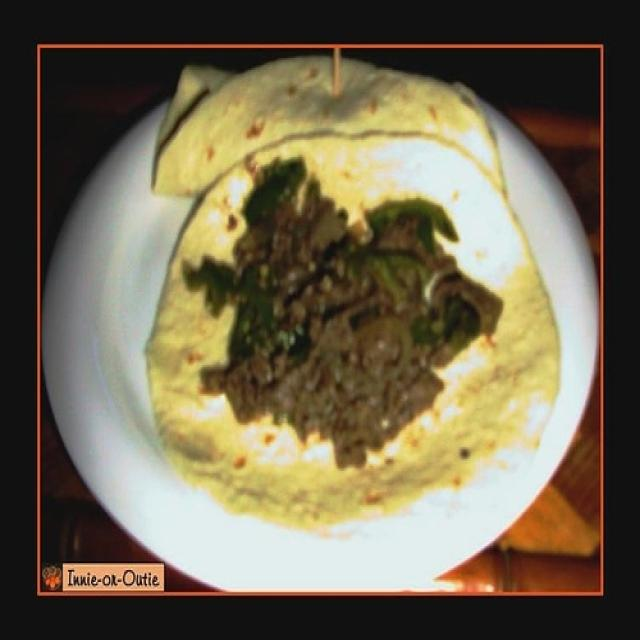面包点心: (123, 60, 563, 532)
